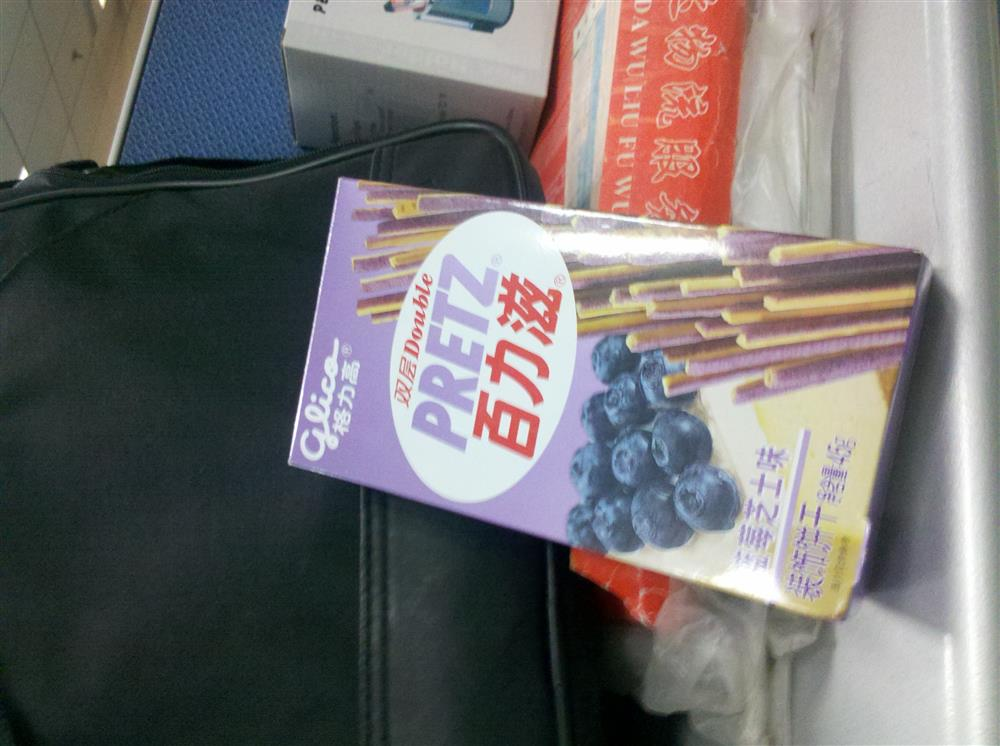Pretz: (280, 175, 940, 620)
